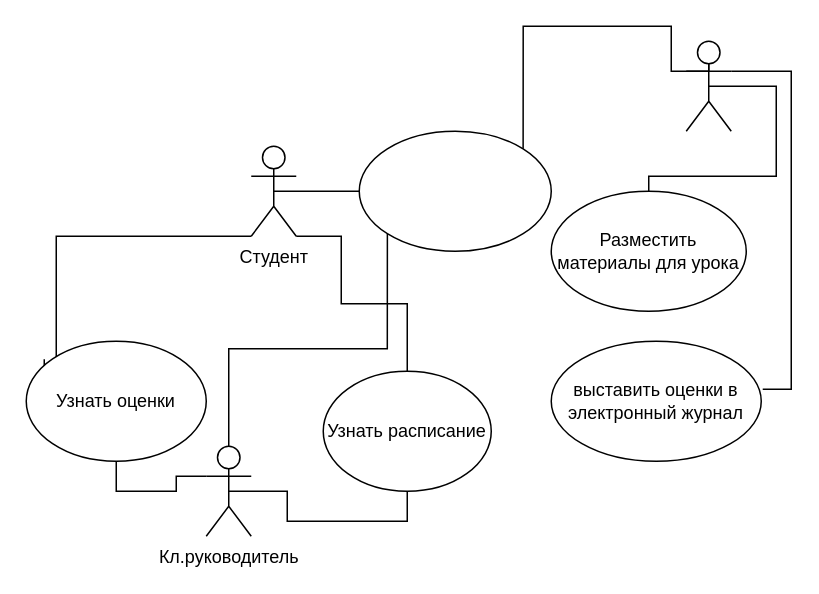
Image size: 819x594. Some labels were removed from this diagram. Here are the shapes that lost their labels. From the top down, the box of each, then its label:
(685, 40, 731, 131): преподаватель
(358, 130, 551, 251): Отправить сообщение
